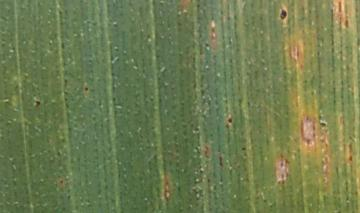tarspot: (277, 3, 290, 23), (30, 97, 44, 109), (81, 83, 91, 96), (227, 115, 233, 126), (240, 145, 245, 153)
